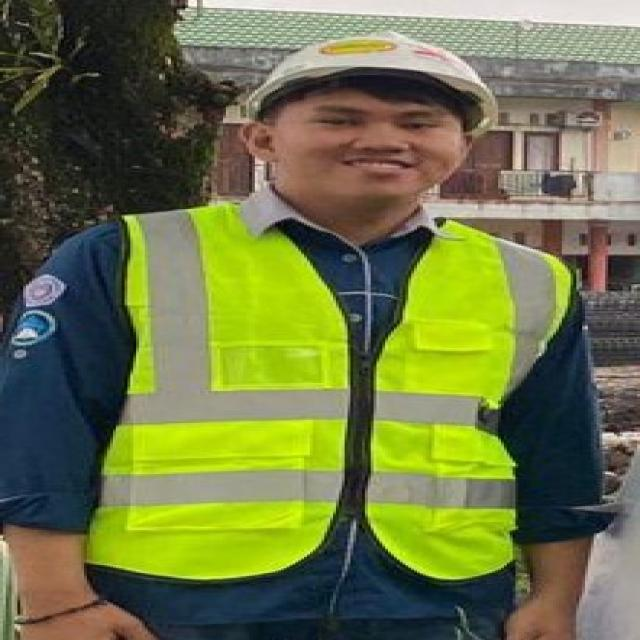safetyhelmet: (230, 28, 507, 177)
